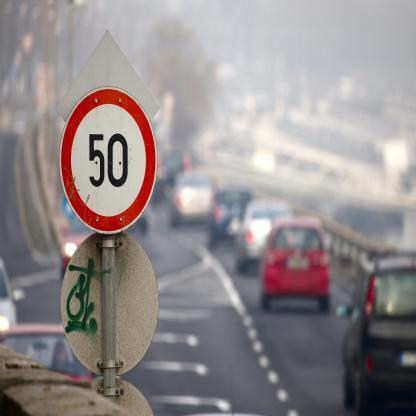road_sign: (62, 89, 157, 235)
